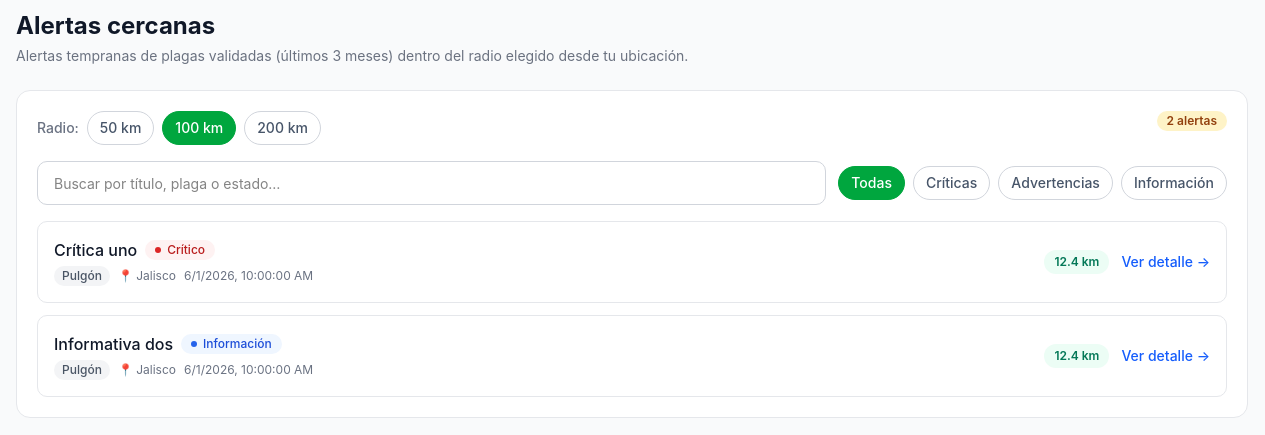
Test: AlertasCercanasPanel › filters by severity
Expected: the number of buttons with test id "early-alert-row" is 2, top-left (37, 221), bottom-right (1227, 303); top-left (37, 315), bottom-right (1227, 397)
Click the button with test id "severity-chip-critico". click: (952, 183)
box: top-left (913, 166), bottom-right (990, 200)
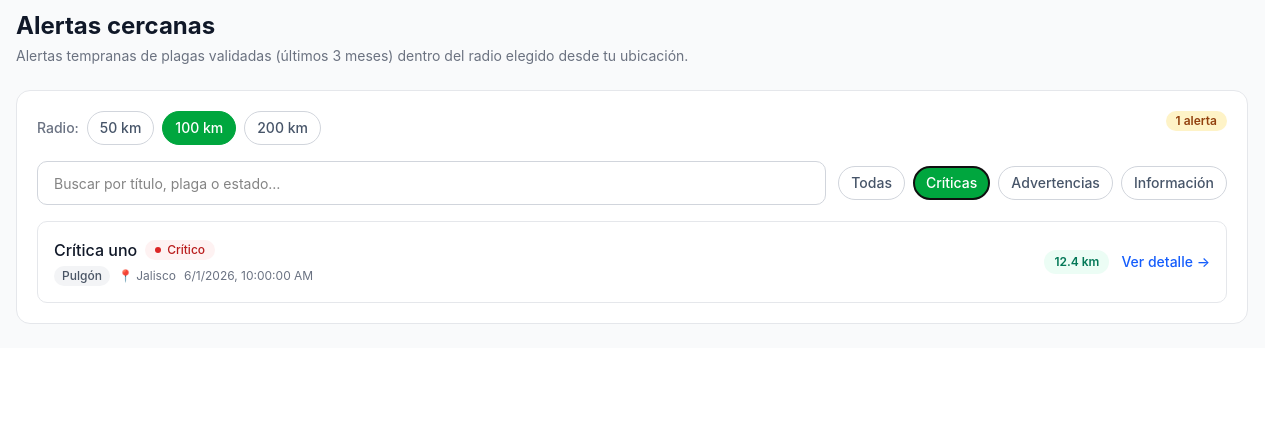
Expected: the text "Crítica uno" is shown, top-left (54, 238), bottom-right (137, 262)
Result: the number of buttons with test id "early-alert-row" is 1 at top-left (37, 221), bottom-right (1227, 303)
